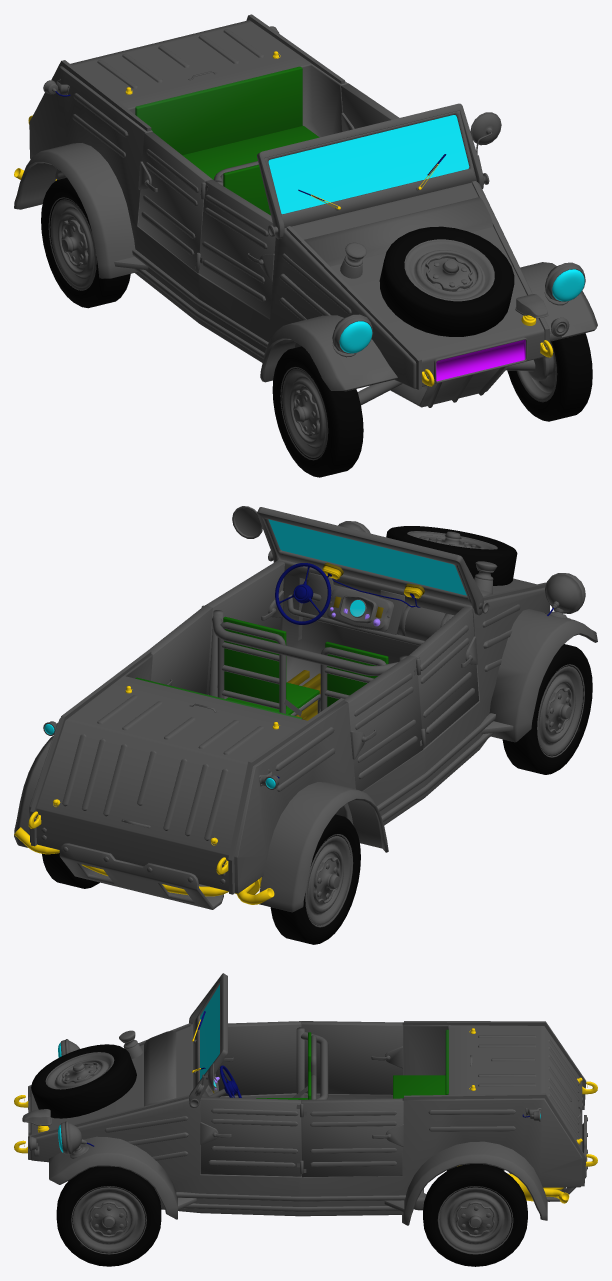
File: jeep_aleman.fbx
3 views of the same model, one above another, from view 1: azimuth 30°, elevation 25°; view 2: azimuth 150°, elevation 25°; view 3: azimuth 270°, elevation 25° (orthographic). The views are drawn at different scales.
Parts seen in each view (by area): view 1: Circle.113; view 2: Circle.113; view 3: Circle.113.
Part boxes in pixels (<box>): Circle.113: <box>14,14,597,477</box>; Circle.113: <box>14,506,597,944</box>; Circle.113: <box>14,973,597,1266</box>.
Bounding box in the file's own units: 166 × 144 × 367.
